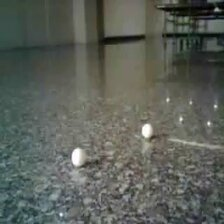w: (71, 147, 86, 167), (141, 123, 154, 138)
